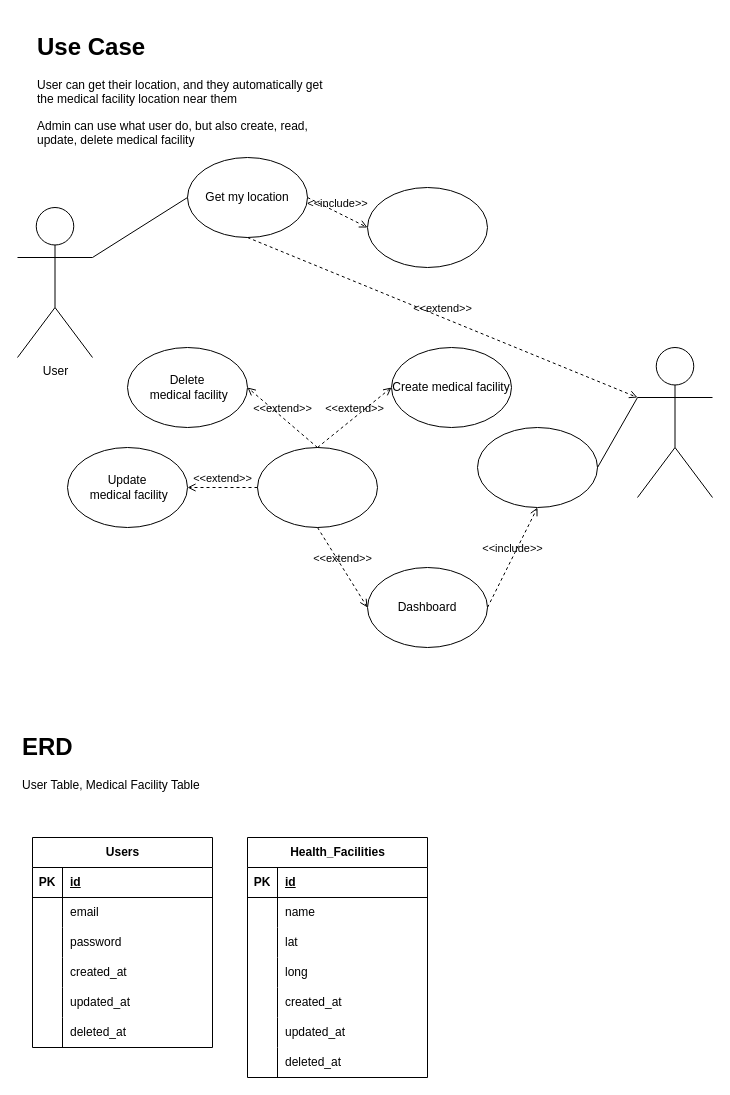
Image size: 730x1095. Some labels were removed from this diagram. The shapes that lost their labels are listed below. From the top down, each one's centre as x and y in pixels, then its label:
At point 427,227: "Get medical facility location".
At point 674,422: "Admin".
At point 317,487: "Read medical facility".
At point 537,467: "Login".
